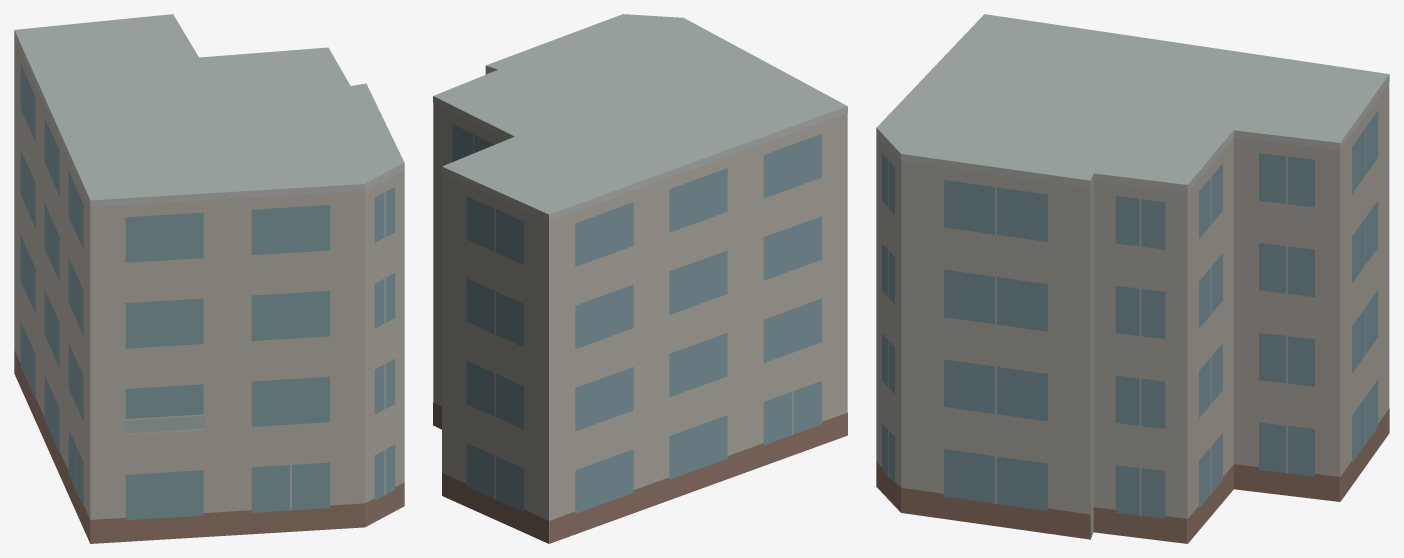
File: survey-upis-32875180.glb
3 renders of one model, left to right at view 1: azimuth 30°, elevation 25°; view 2: azimuth 150°, elevation 25°; view 3: azimuth 270°, elevation 25°, orthographic. The views are drawn at different scales.
Parts seen in each view (by area): view 1: survey-upis-32875180.tmp; view 2: survey-upis-32875180.tmp; view 3: survey-upis-32875180.tmp.
Boxes of the visible parts, x1,y1,x2,y2 form: survey-upis-32875180.tmp: (14,14,404,543); survey-upis-32875180.tmp: (433,14,847,543); survey-upis-32875180.tmp: (876,14,1389,543).
Size of the model in its own units: 12.11 by 11.85 by 15.36.
